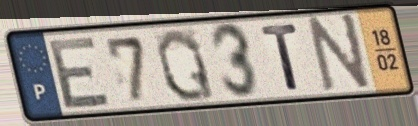3: (210, 18, 261, 104)
7: (102, 32, 149, 104)
E: (47, 34, 114, 112)
N: (306, 11, 373, 95)
Q: (153, 26, 218, 104)
T: (258, 21, 302, 93)
